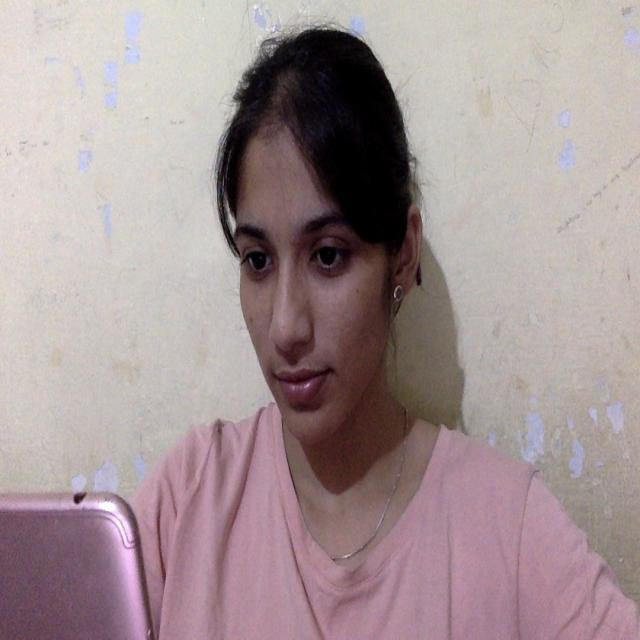Phone: (1, 488, 156, 640)
